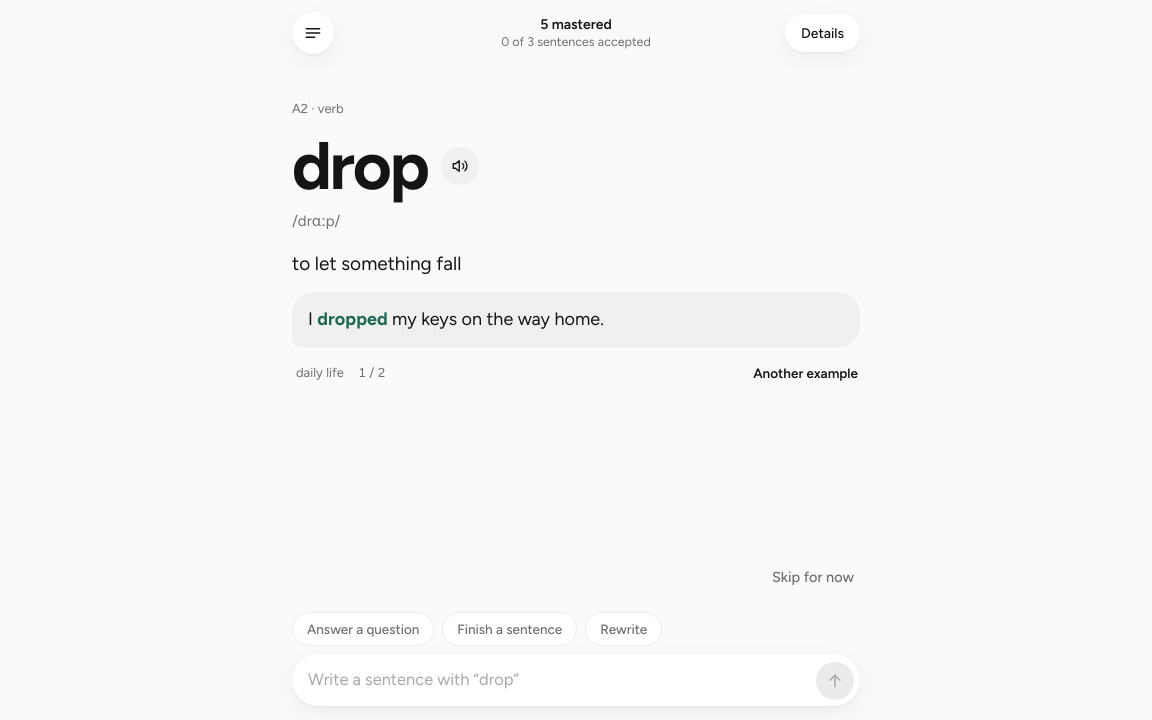
Test: Study › keeps its place across pages › points the address at the next word when moving on
Click the button "Skip for now". click: (813, 578)
box: [766, 558, 860, 598]
(page scrolled)
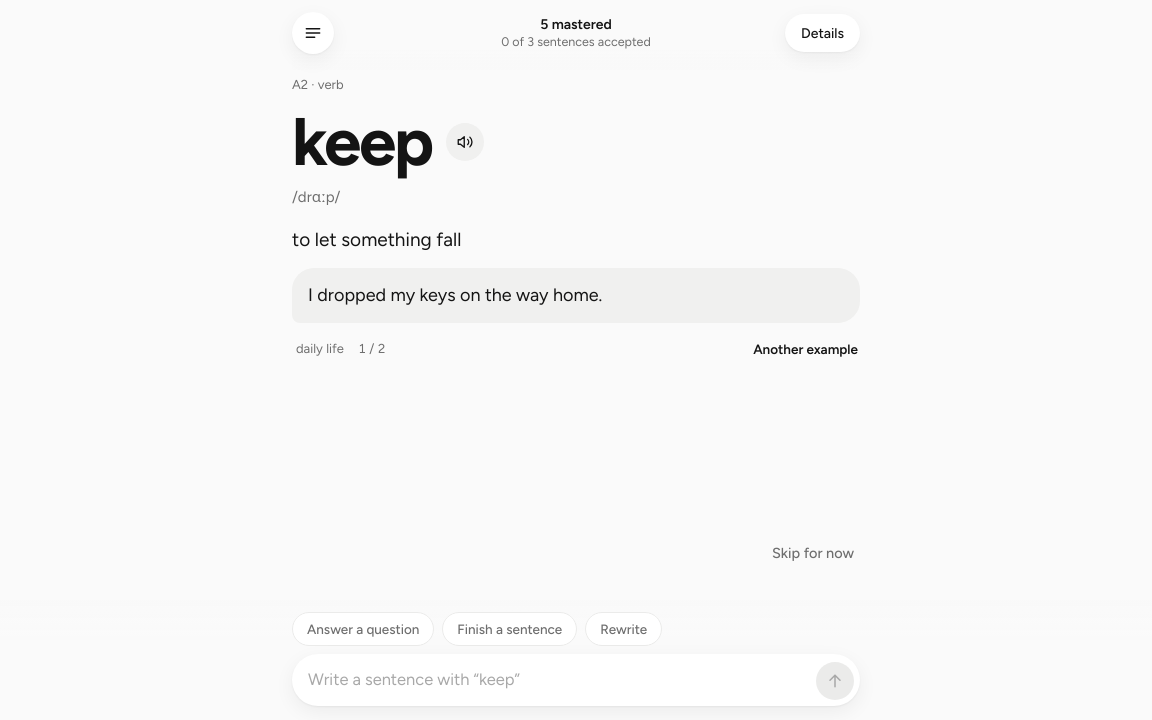
Check: the heading "keep" is shown, box [292, 108, 432, 176]
